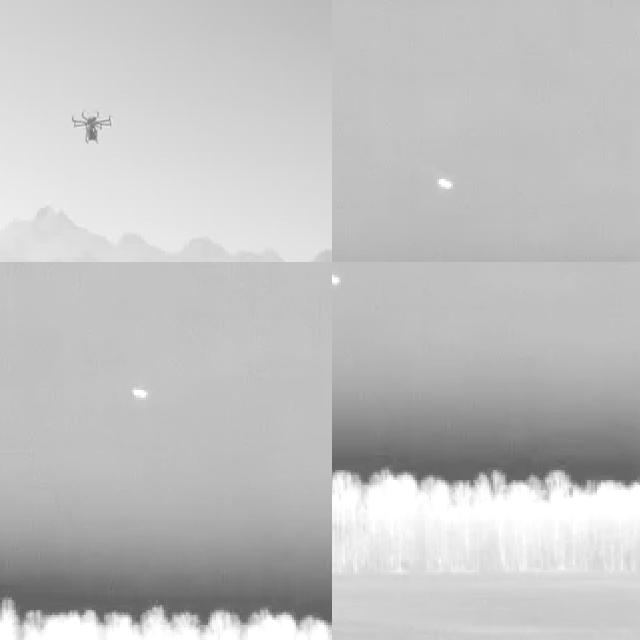1: (425, 172, 461, 202), (121, 381, 157, 411), (332, 266, 348, 296)
drone: (72, 102, 114, 146)
